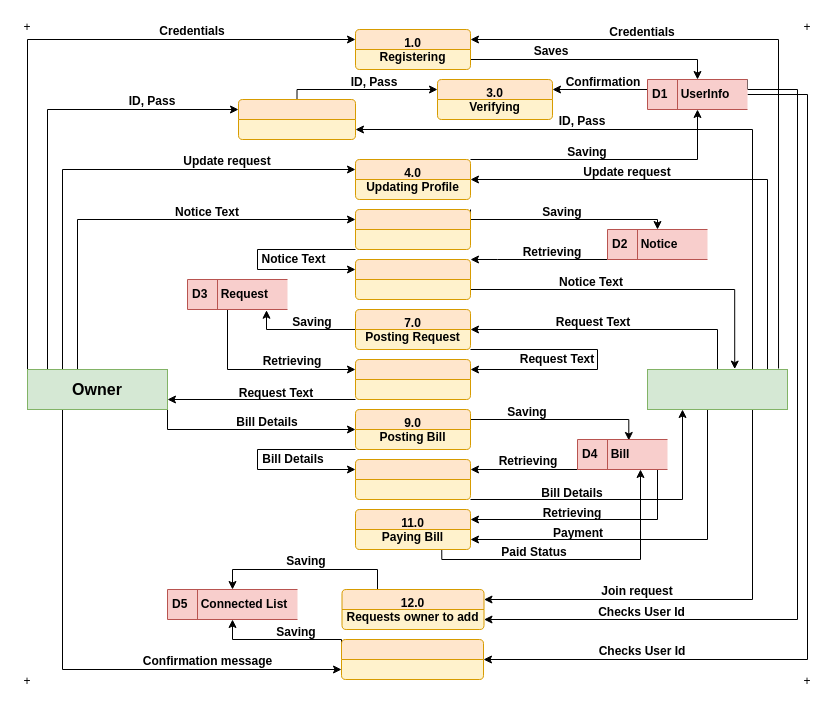
The diagram is 834 pixels wide and 708 high, and some of its shapes have lost their labels. The box of each missing label's shape, as (x1, y1, x2, y2) in pixels:
10.0 Viewing Bill: (354, 458, 470, 500)
13.0 Accepts add request: (340, 638, 484, 680)
2.0 Logging In: (238, 98, 356, 140)
5.0 Posting Notice: (354, 208, 470, 250)
6.0 Viewing Notice: (354, 258, 470, 300)
8.0 Viewing Request: (354, 358, 470, 400)
Tenant: (646, 368, 788, 410)
